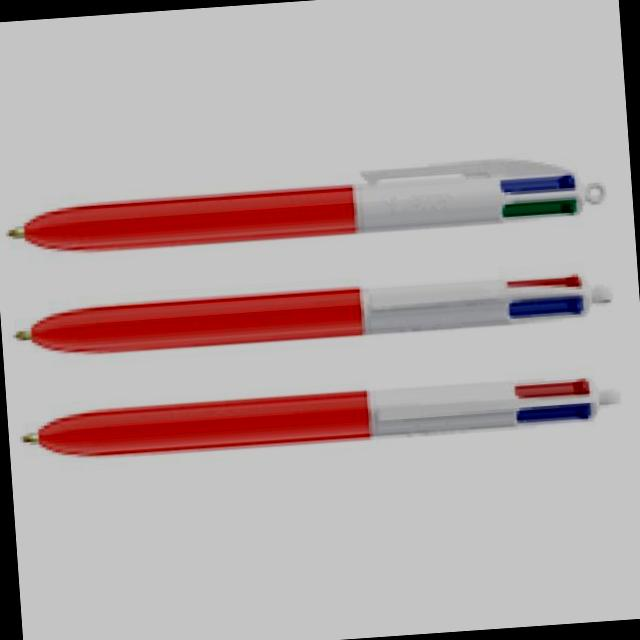Pen - Non Recyclable: (4, 152, 606, 258), (4, 152, 606, 258), (12, 270, 612, 360), (21, 372, 620, 462), (14, 270, 612, 359), (21, 374, 618, 462)
